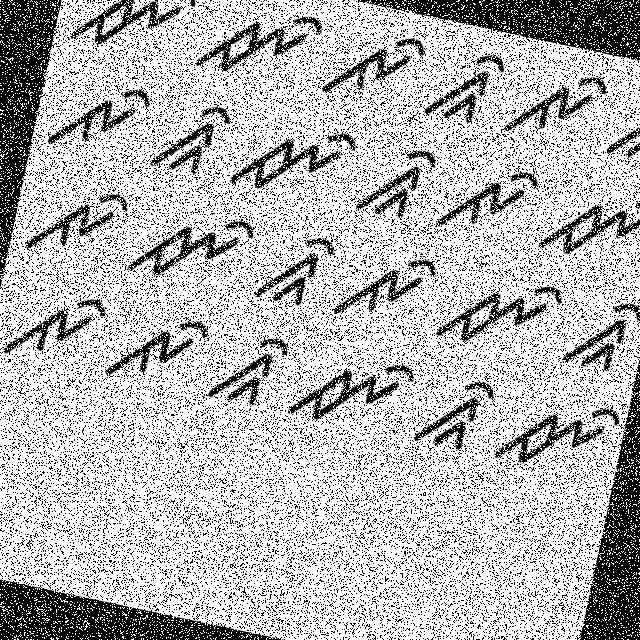ay: (502, 45, 616, 157), (0, 267, 114, 377), (40, 64, 158, 166), (19, 166, 132, 267), (333, 237, 442, 337), (432, 152, 544, 249), (104, 298, 212, 396), (319, 18, 429, 112)
nggay: (202, 322, 294, 420), (250, 221, 338, 322), (419, 37, 510, 132), (411, 362, 499, 458), (143, 94, 232, 185), (353, 132, 440, 225), (558, 286, 639, 381), (603, 75, 639, 172)
njay: (429, 259, 566, 367), (490, 380, 622, 486), (281, 342, 418, 444), (227, 108, 361, 212), (126, 196, 260, 298), (196, 0, 330, 96), (534, 174, 639, 281), (67, 0, 206, 70)
